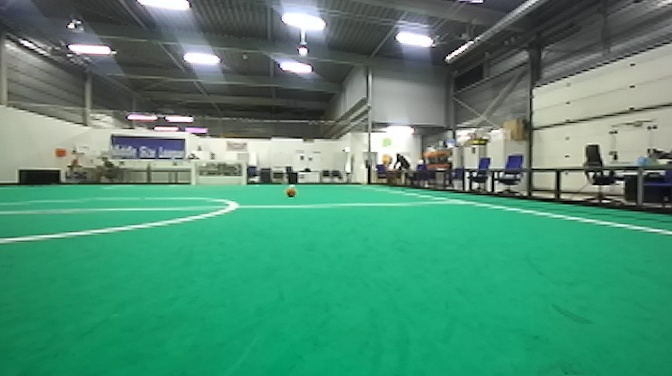ball: (283, 184, 299, 201)
goal: (188, 158, 247, 188)
goalpost: (189, 161, 197, 188), (241, 159, 247, 187)
